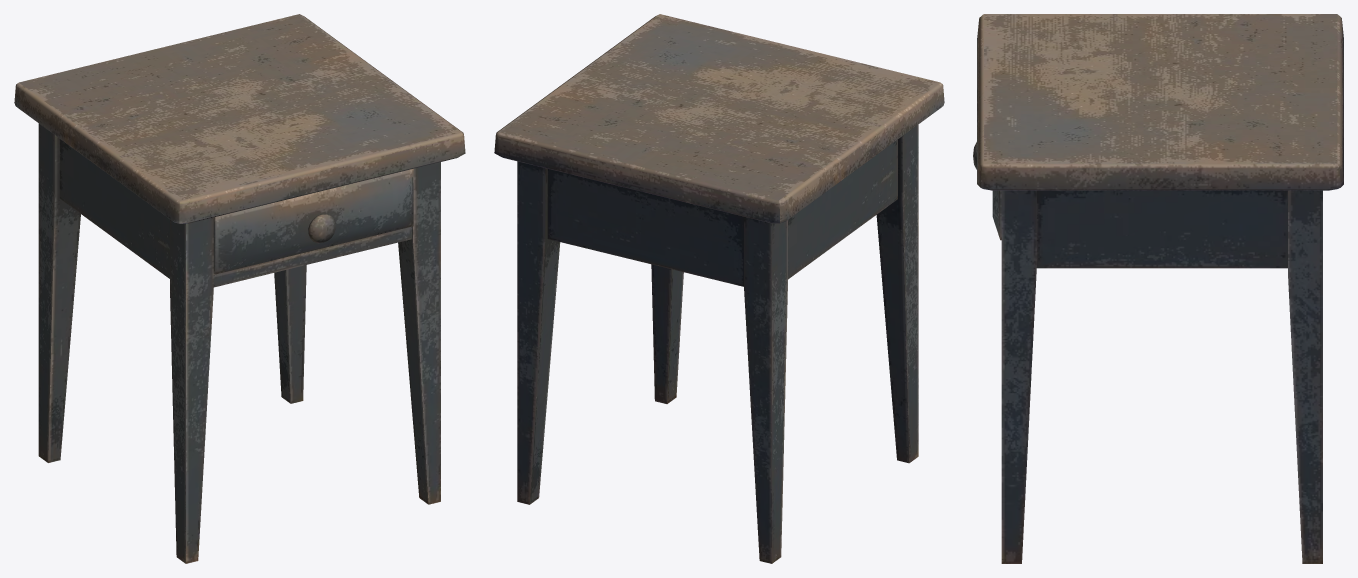
Rendered from nightstand.glb.
The picture shows the model from 3 angles, left to right: view 1: azimuth 30°, elevation 25°; view 2: azimuth 150°, elevation 25°; view 3: azimuth 270°, elevation 25°; orthographic projection. The views are drawn at different scales.
Visible parts, largest first — view 1: painted_wooden_nightstand; view 2: painted_wooden_nightstand; view 3: painted_wooden_nightstand.
Boxes of the visible parts, x1,y1,x2,y2 form: painted_wooden_nightstand: [14, 14, 465, 563]; painted_wooden_nightstand: [494, 14, 944, 563]; painted_wooden_nightstand: [973, 14, 1343, 563].
Bounding box in the file's own units: 0.5123 × 0.625 × 0.5166.
1 material, 1 textured.
